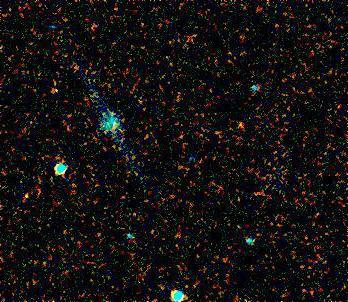star: (227, 109, 257, 139)
